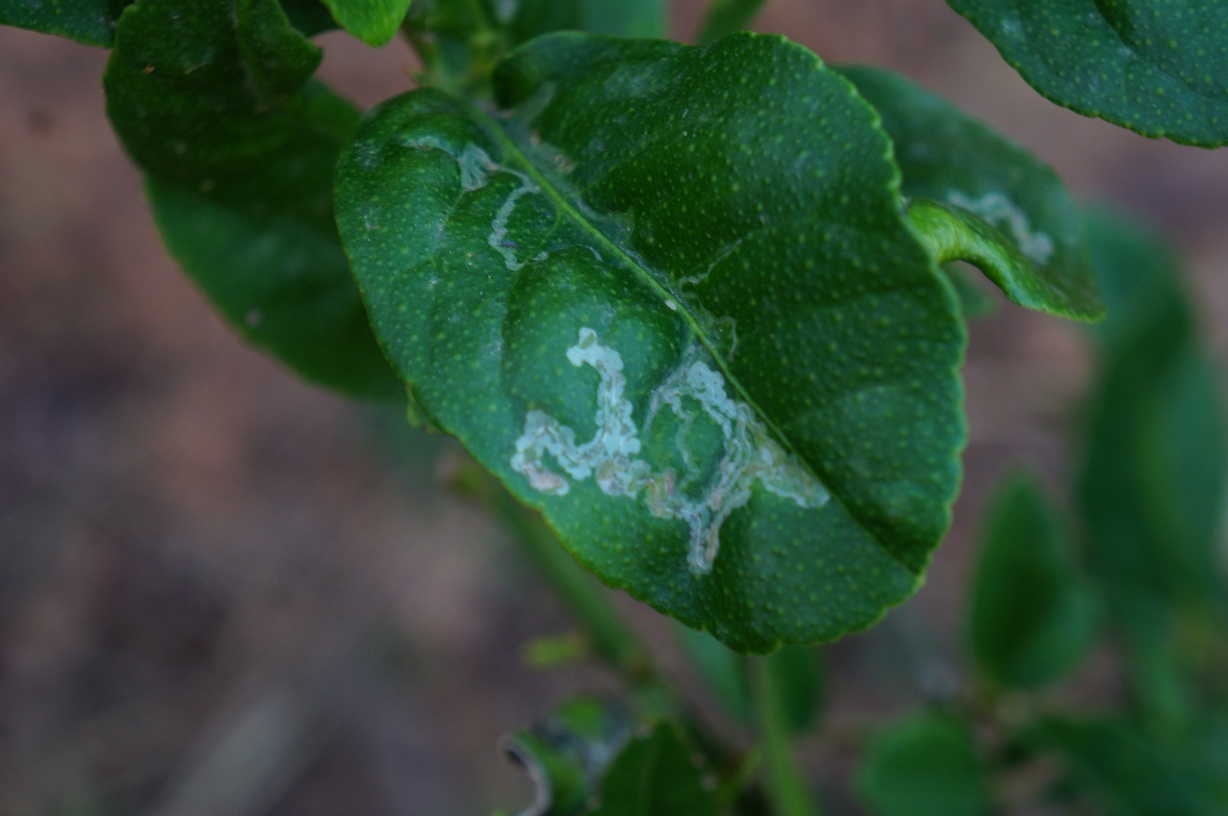damage: (506, 319, 850, 580), (351, 114, 625, 285)
